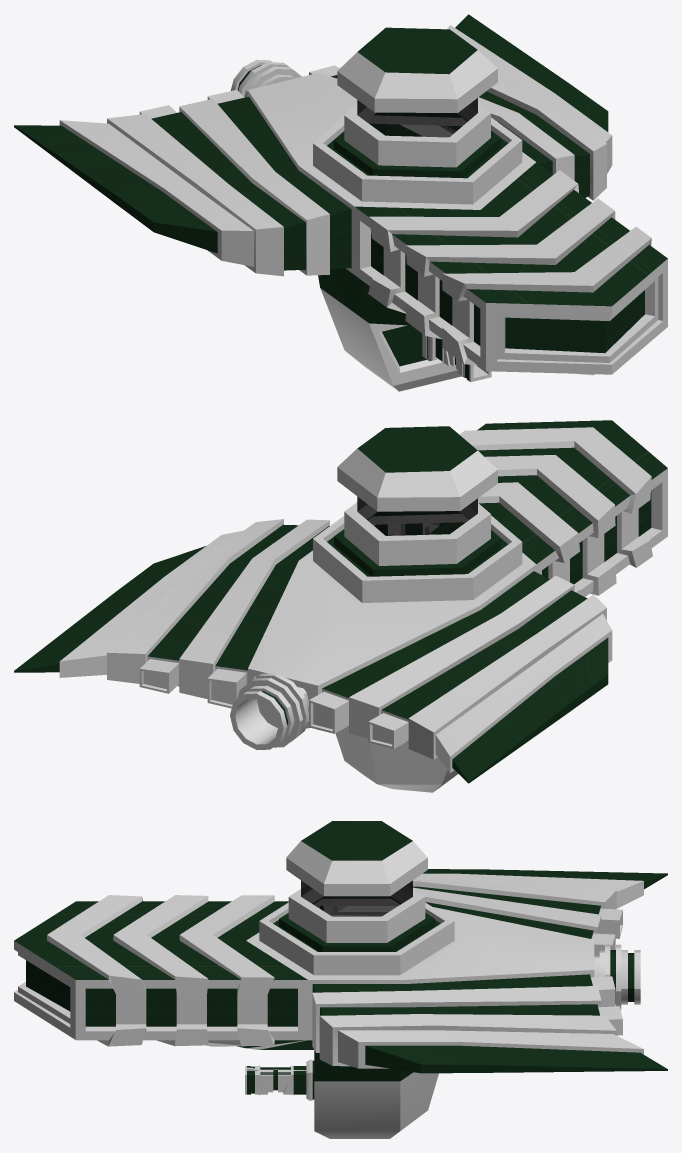
File: DAB.fbx
3 renders of one model, top to bottom at view 1: azimuth 30°, elevation 25°; view 2: azimuth 150°, elevation 25°; view 3: azimuth 270°, elevation 25°, orthographic. The views are drawn at different scales.
Visible parts, largest first — view 1: DAB; view 2: DAB; view 3: DAB.
Part boxes in pixels (x1,y1,x2,y2): DAB: (14,14,667,391); DAB: (14,420,667,792); DAB: (14,821,667,1138).
Size of the model in its own units: 6.01 by 4.06 by 8.49.
